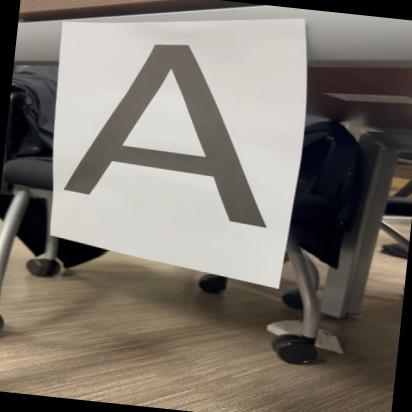seat: (48, 28, 300, 238)
